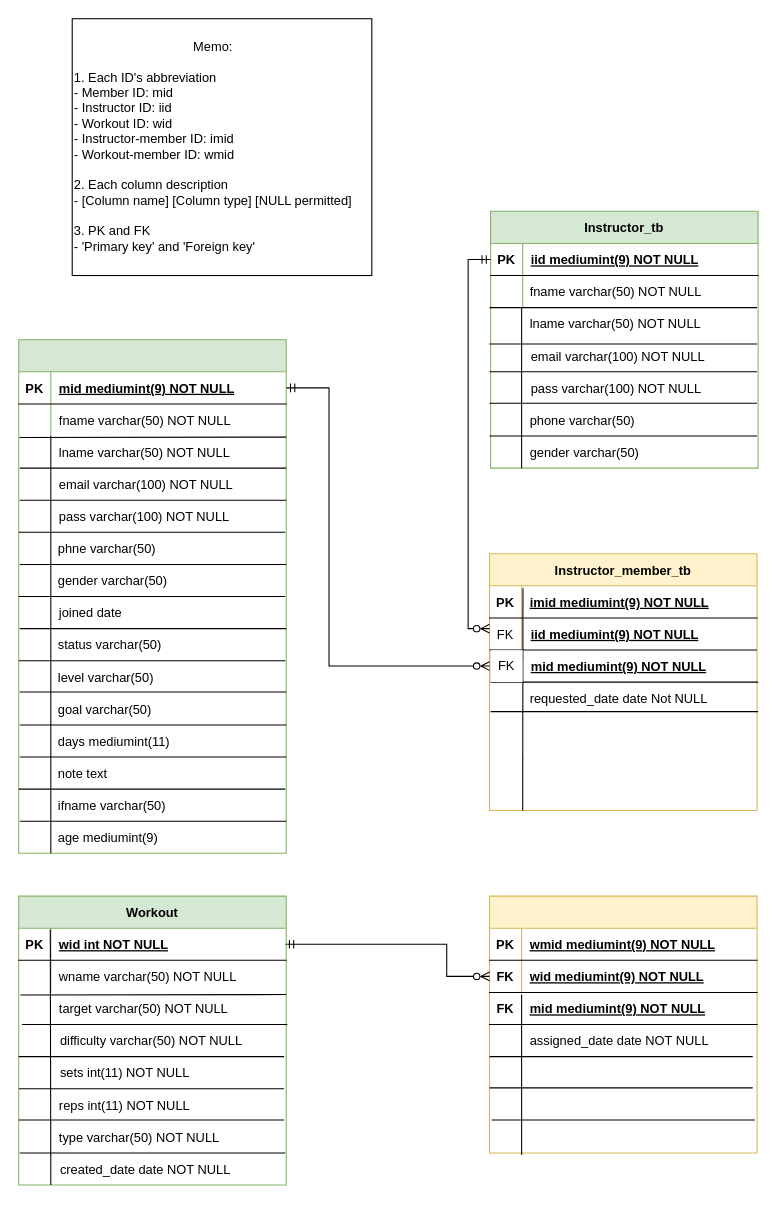
The diagram is 778 pixels wide and 1205 high, and some of its shapes have lost their labels. Here are the shapes that lost their labels. From the top down, the box of each, then its label:
(18, 339, 286, 853): Member_tb
(488, 895, 757, 1153): Workout_member_tb
